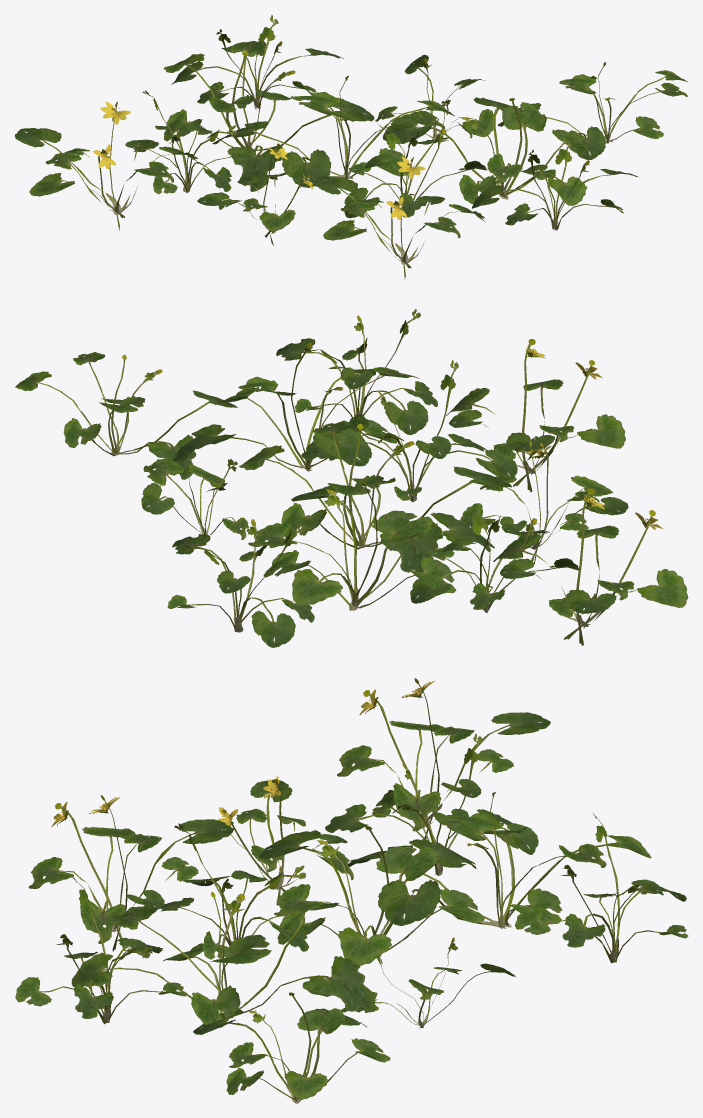
File: Scan_Celandine_A.fbx
3 views of the same model, one above another, from view 1: azimuth 30°, elevation 25°; view 2: azimuth 150°, elevation 25°; view 3: azimuth 270°, elevation 25° (orthographic). The views are drawn at different scales.
Visible parts, largest first — view 1: Scan_Celandine_A_LOD0; view 2: Scan_Celandine_A_LOD0; view 3: Scan_Celandine_A_LOD0.
Part boxes in pixels (left/top/right/bottom): Scan_Celandine_A_LOD0: left=14, top=15, right=687, bottom=279; Scan_Celandine_A_LOD0: left=15, top=309, right=688, bottom=647; Scan_Celandine_A_LOD0: left=15, top=678, right=688, bottom=1103.
Size of what is drawn, in the model's own units: 1.11 by 0.2309 by 0.8327.
